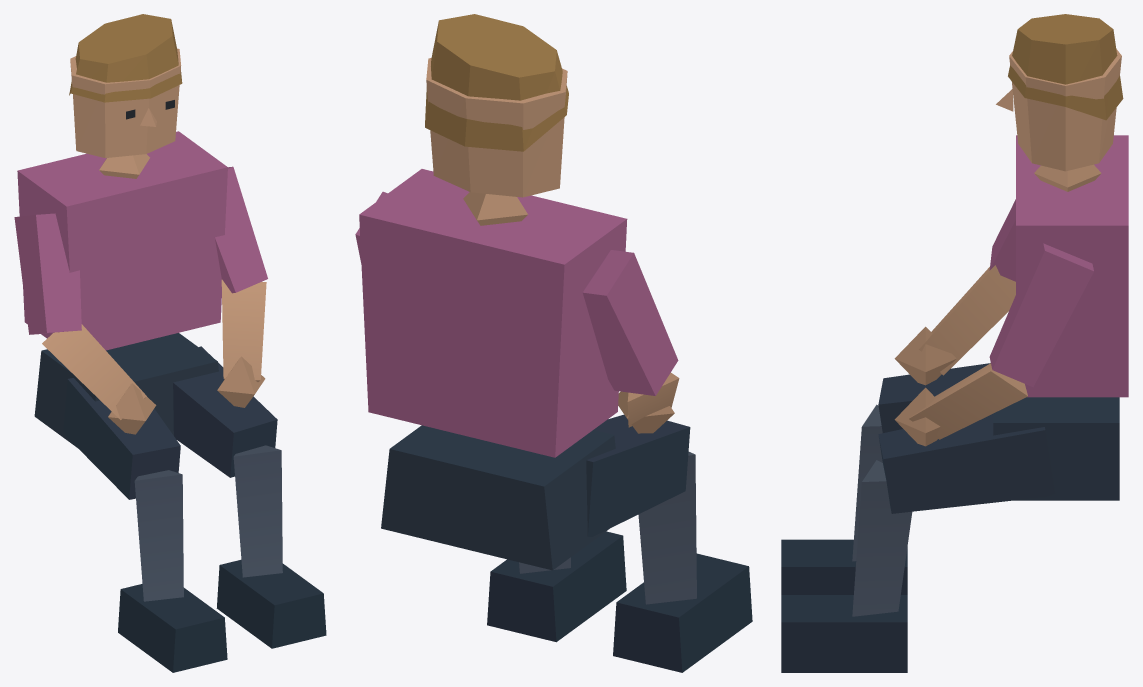
The model's file is fan-05.glb.
The picture shows the model from 3 angles, left to right: view 1: azimuth 30°, elevation 25°; view 2: azimuth 150°, elevation 25°; view 3: azimuth 270°, elevation 25°; orthographic projection. The views are drawn at different scales.
Parts seen in each view (by area): view 1: fan-05; view 2: fan-05; view 3: fan-05.
Boxes of the visible parts, x1,y1,x2,y2 form: fan-05: (14,14,326,672); fan-05: (355,14,752,672); fan-05: (781,14,1128,672).
Size of the model in its own units: 0.6574 by 1.49 by 0.77.
